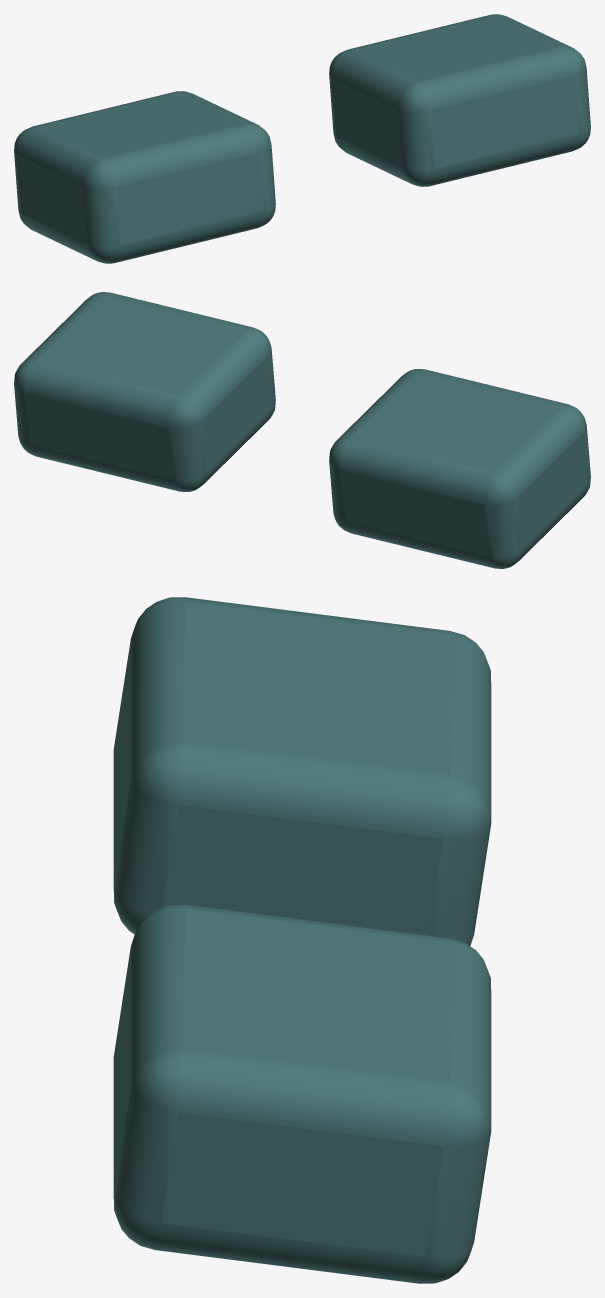
Rendered from SM_Mk2_Leg_L_09_ToePads.fbx.
The picture shows the model from 3 angles, top to bottom: view 1: azimuth 30°, elevation 25°; view 2: azimuth 150°, elevation 25°; view 3: azimuth 270°, elevation 25°; orthographic projection. The views are drawn at different scales.
Parts seen in each view (by area): view 1: SM_Mk2_Leg_L_09_ToePads; view 2: SM_Mk2_Leg_L_09_ToePads; view 3: SM_Mk2_Leg_L_09_ToePads.
Part boxes in pixels (x1,y1,x2,y2): SM_Mk2_Leg_L_09_ToePads: (14, 14, 590, 263); SM_Mk2_Leg_L_09_ToePads: (14, 292, 590, 568); SM_Mk2_Leg_L_09_ToePads: (113, 597, 491, 1283).
Size of the model in its own units: 21.6 by 7.05 by 4.76.
